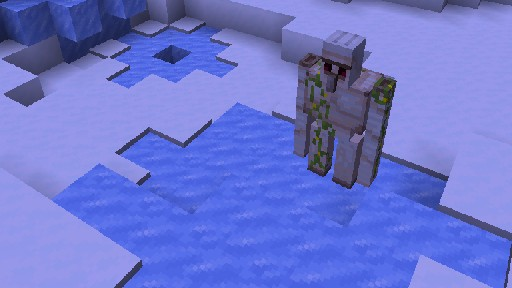iron_golem: (292, 28, 397, 189)
